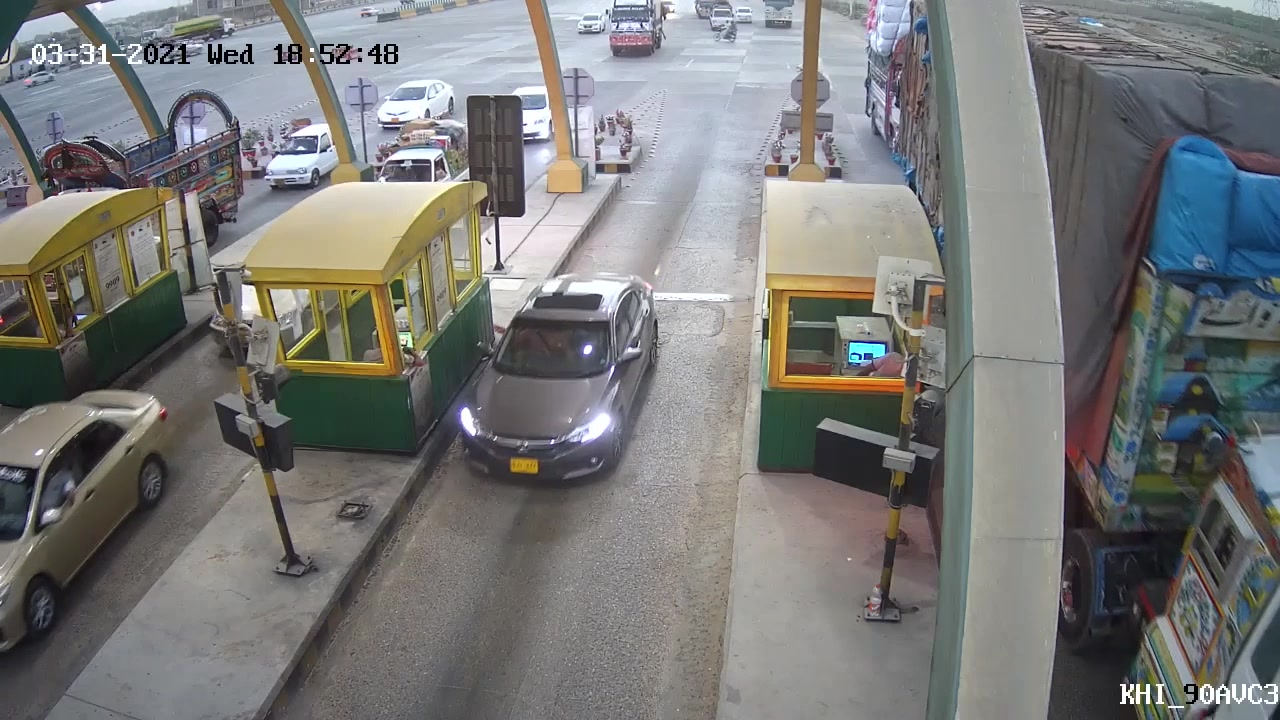F1: (455, 265, 665, 487)
